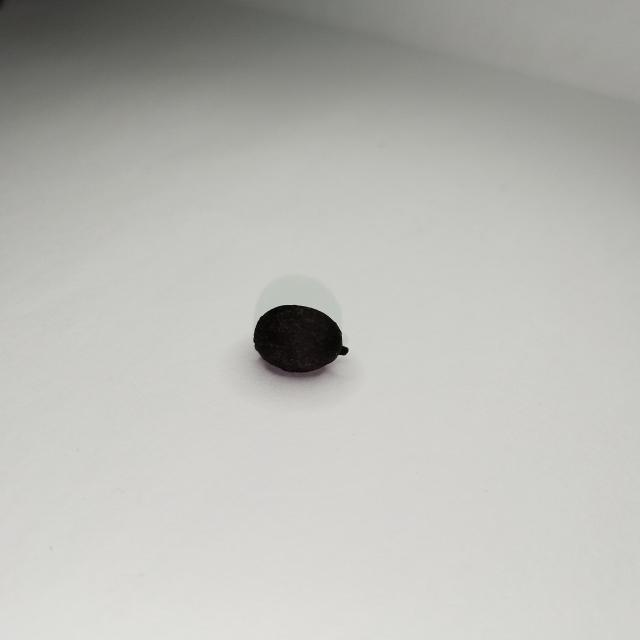Danado: (251, 303, 350, 378)
